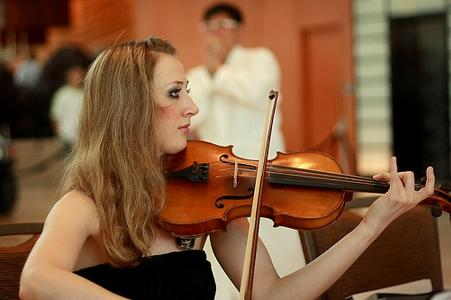person: (19, 39, 437, 300)
